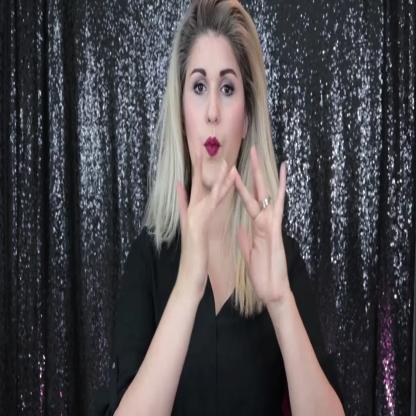Internet: (172, 142, 294, 312)
